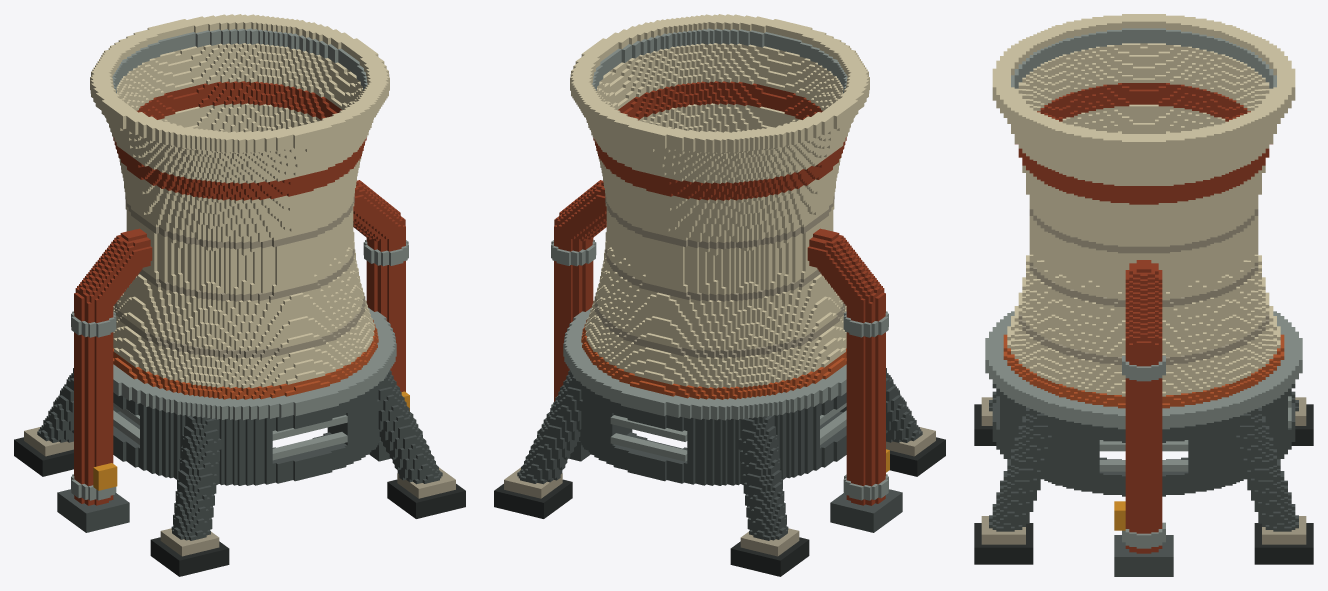
File: cooling_tower.glb
3 views of the same model, side by side, from view 1: azimuth 30°, elevation 25°; view 2: azimuth 150°, elevation 25°; view 3: azimuth 270°, elevation 25° (orthographic). The views are drawn at different scales.
Visible parts, largest first — view 1: cooling_tower; view 2: cooling_tower; view 3: cooling_tower.
Part boxes in pixels (x1,y1,x2,y2): cooling_tower: (14, 14, 465, 576); cooling_tower: (494, 14, 945, 576); cooling_tower: (974, 14, 1313, 576).
Bounding box in the file's own units: 5.4 × 6.2 × 4.6.
